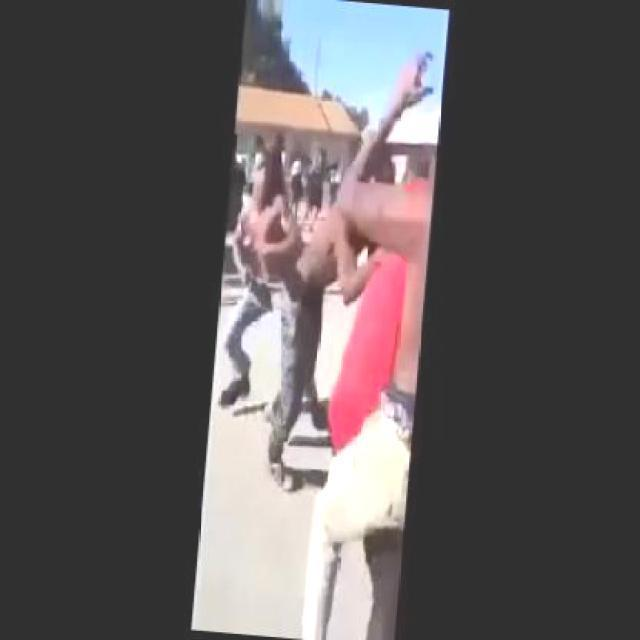fight: (274, 150, 434, 478)
